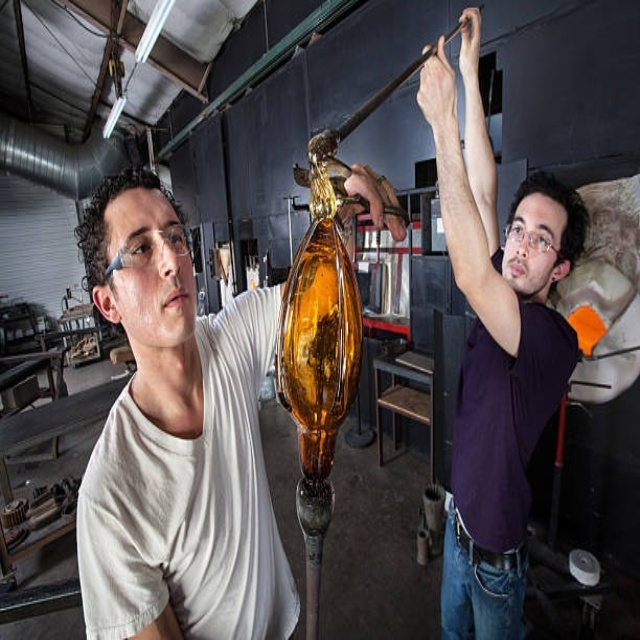Gafas: (102, 225, 194, 281), (503, 224, 563, 256)
Sin_guantes: (337, 163, 409, 247), (415, 25, 460, 131), (457, 3, 484, 80)
Sin_mascara: (156, 279, 196, 331), (505, 254, 528, 289)
